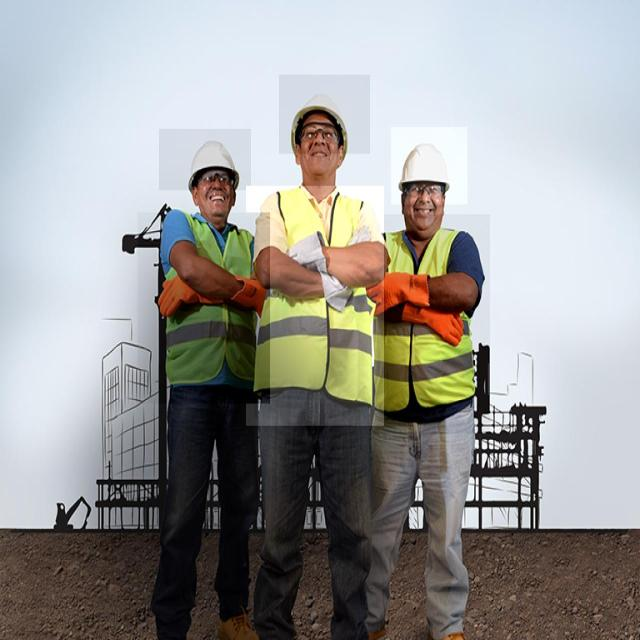Helmet: (279, 74, 370, 154), (391, 127, 467, 205), (159, 129, 251, 190)
Safety Vest: (246, 186, 384, 426), (370, 214, 490, 434), (138, 212, 270, 404)
